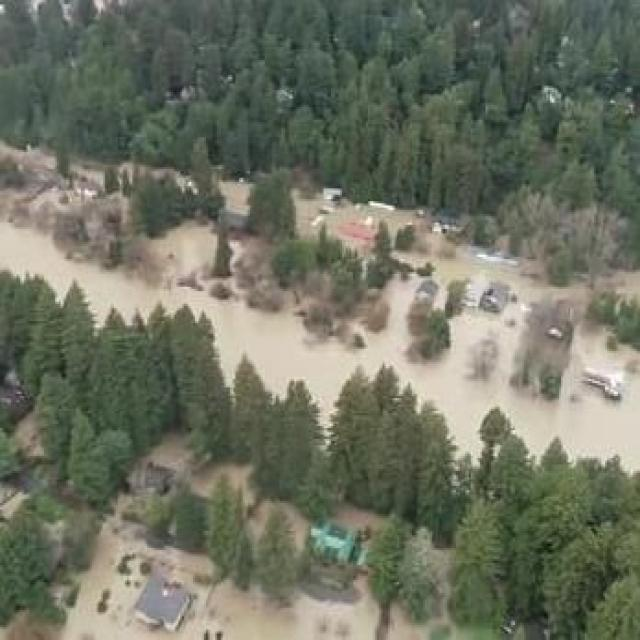flooded_areas: (9, 88, 638, 509)
